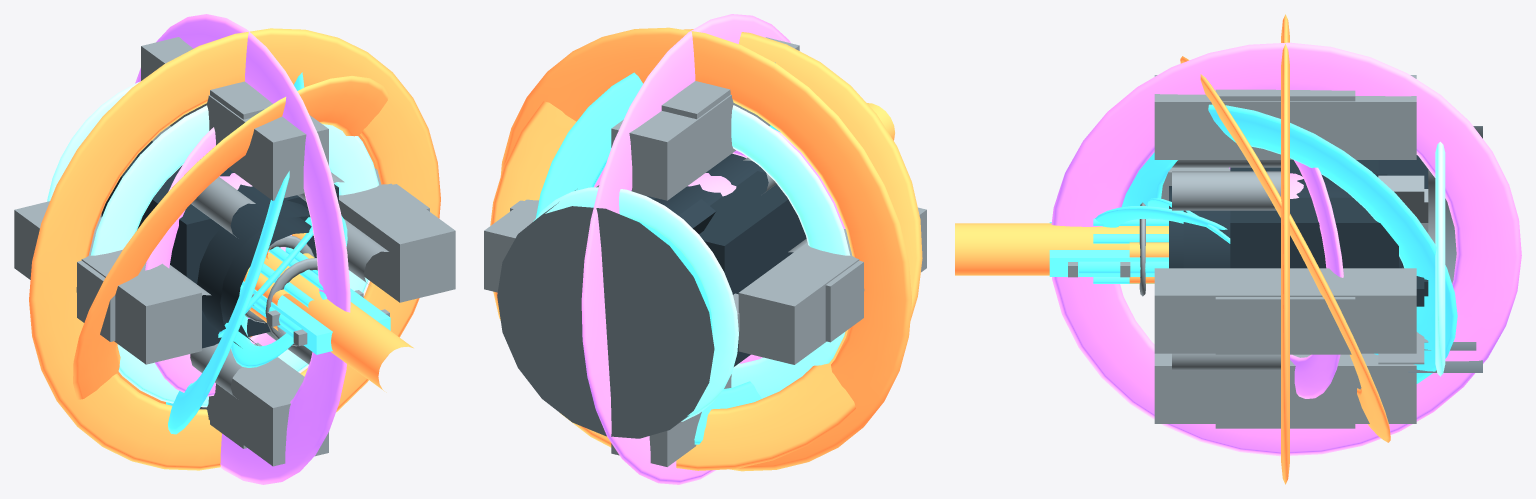
The model's file is orbital-hq-turrets.gltf.
3 views of the same model, side by side, from view 1: azimuth 30°, elevation 25°; view 2: azimuth 150°, elevation 25°; view 3: azimuth 270°, elevation 25° (orthographic).
Parts seen in each view (by area): view 1: rotor_dock_2, rotor_quantum_3, rotor_collector_2, rotor_collector_1, construction_arm_3, construction_arm_1, construction_arm_2, construction_arm_4, siege_barrel, refinery_core, rotor_quantum_2, weapon_housing (+14 smaller); view 2: pedestal, rotor_dock_2, rotor_collector_2, rotor_quantum_3, construction_arm_3, rotor_collector_1, base_energy_ring (×2), weapon_housing, construction_arm_2, rotor_quantum_2, research_module_3, construction_arm_1 (+6 smaller); view 3: rotor_quantum_3, construction_arm_1, construction_arm_4, rotor_quantum_2, construction_arm_2, weapon_housing, research_module_1, siege_barrel, rotor_collector_2, rotor_dock_2, isotope_tank_2, rotor_quantum_1 (+15 smaller).
Part boxes in pixels (x1=…): rotor_dock_2: x1=29, y1=28, x2=440, y2=470; rotor_quantum_3: x1=135, y1=14, x2=350, y2=484; rotor_collector_2: x1=73, y1=76, x2=388, y2=404; rotor_collector_1: x1=90, y1=105, x2=378, y2=407; construction_arm_3: x1=14, y1=201, x2=201, y2=364; construction_arm_1: x1=339, y1=172, x2=455, y2=302; construction_arm_2: x1=141, y1=37, x2=328, y2=200; construction_arm_4: x1=199, y1=337, x2=328, y2=466; siege_barrel: x1=264, y1=252, x2=413, y2=392; refinery_core: x1=179, y1=165, x2=310, y2=346; rotor_quantum_2: x1=166, y1=72, x2=304, y2=434; weapon_housing: x1=101, y1=157, x2=338, y2=348; pedestal: x1=497, y1=190, x2=714, y2=438; rotor_dock_2: x1=500, y1=27, x2=911, y2=471; rotor_collector_2: x1=490, y1=29, x2=922, y2=470; rotor_quantum_3: x1=581, y1=14, x2=790, y2=484; construction_arm_3: x1=738, y1=207, x2=926, y2=364; rotor_collector_1: x1=731, y1=105, x2=850, y2=398; base_energy_ring (×2): x1=533, y1=187, x2=738, y2=421; weapon_housing: x1=643, y1=171, x2=806, y2=366; construction_arm_2: x1=611, y1=37, x2=799, y2=200; rotor_quantum_2: x1=536, y1=72, x2=780, y2=444; research_module_3: x1=825, y1=260, x2=864, y2=342; construction_arm_1: x1=484, y1=199, x2=538, y2=292; rotor_quantum_3: x1=1051, y1=42, x2=1521, y2=456; construction_arm_1: x1=1154, y1=268, x2=1416, y2=353; construction_arm_4: x1=1154, y1=353, x2=1416, y2=423; rotor_quantum_2: x1=1121, y1=104, x2=1457, y2=383; construction_arm_2: x1=1154, y1=75, x2=1416, y2=159; weapon_housing: x1=1230, y1=160, x2=1398, y2=268; research_module_1: x1=1215, y1=297, x2=1355, y2=354; siege_barrel: x1=955, y1=223, x2=1168, y2=275; rotor_collector_2: x1=1180, y1=56, x2=1390, y2=442; rotor_dock_2: x1=1281, y1=14, x2=1289, y2=484; isotope_tank_2: x1=1172, y1=171, x2=1280, y2=210; rotor_quantum_1: x1=1229, y1=160, x2=1343, y2=398.
Size of the model in its own units: 32.48 by 32.48 by 38.93.
